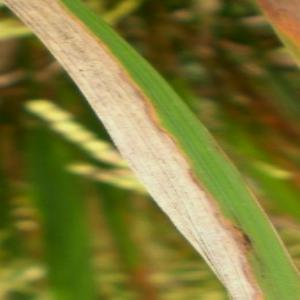2 BacterialBlight: (153, 111, 282, 300)
